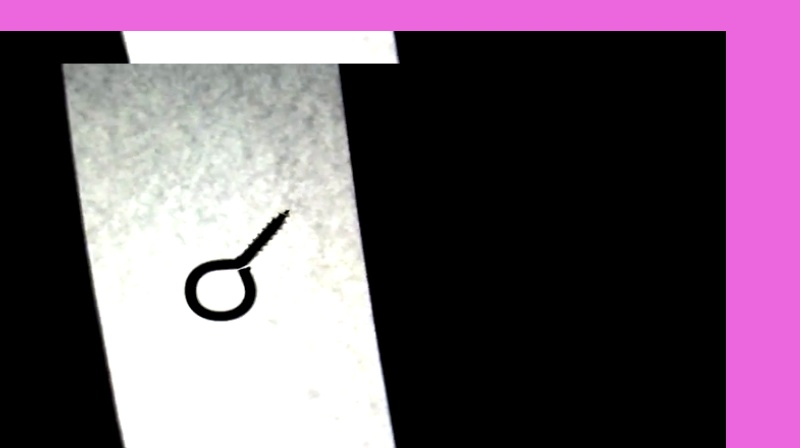O001: (180, 204, 295, 323)
